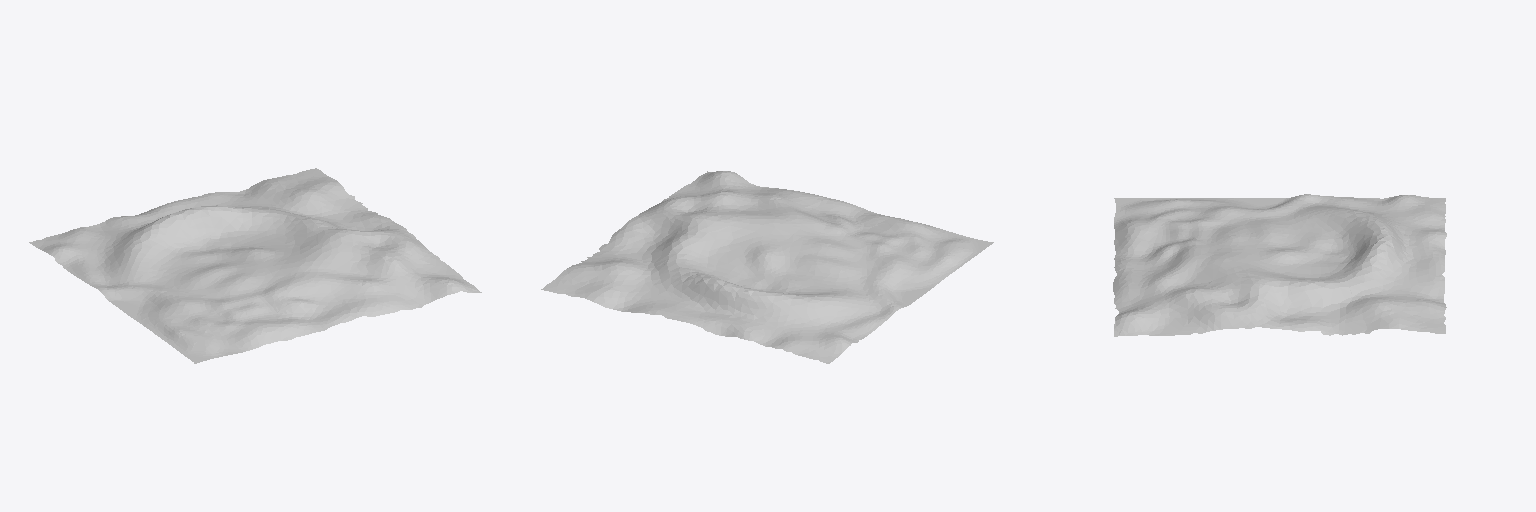
File: Terrain_Large_2.obj
3 views of the same model, side by side, from view 1: azimuth 30°, elevation 25°; view 2: azimuth 150°, elevation 25°; view 3: azimuth 270°, elevation 25° (orthographic).
Parts seen in each view (by area): view 1: LargePlane_2_Plane.005; view 2: LargePlane_2_Plane.005; view 3: LargePlane_2_Plane.005.
Part boxes in pixels (bbox=[...]): LargePlane_2_Plane.005: bbox=[29, 168, 481, 363]; LargePlane_2_Plane.005: bbox=[541, 171, 993, 363]; LargePlane_2_Plane.005: bbox=[1113, 194, 1446, 336].
Size of the model in its own units: 201 by 16.36 by 201.